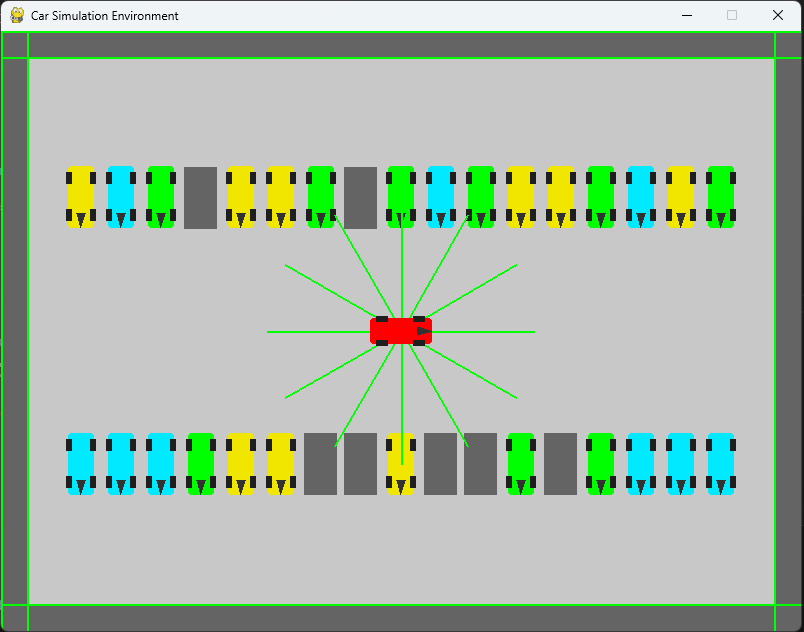ControlledCar: (358, 307, 445, 361)
ParkedCar: (59, 156, 100, 234), (139, 425, 177, 499), (61, 431, 100, 502), (662, 163, 703, 230), (221, 160, 258, 234), (224, 430, 262, 500), (543, 162, 579, 234), (502, 162, 539, 232), (621, 163, 658, 232), (262, 163, 300, 230), (383, 431, 421, 498), (583, 430, 621, 497), (583, 162, 619, 232), (703, 166, 740, 234), (383, 162, 418, 233), (182, 431, 217, 502), (503, 430, 540, 497), (464, 161, 499, 231), (625, 428, 660, 497), (144, 158, 177, 231), (704, 428, 739, 496), (103, 160, 136, 232), (264, 433, 300, 498), (665, 431, 699, 495), (305, 164, 338, 227), (424, 164, 455, 230), (105, 433, 135, 497)
ParkingSpot: (341, 160, 382, 235), (341, 427, 381, 501), (463, 424, 501, 500), (177, 161, 218, 231), (539, 425, 576, 502), (421, 426, 457, 500), (302, 428, 340, 498)
